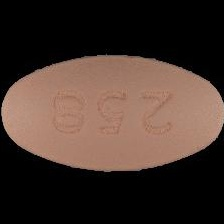0615-7630: (0, 0, 224, 224)
